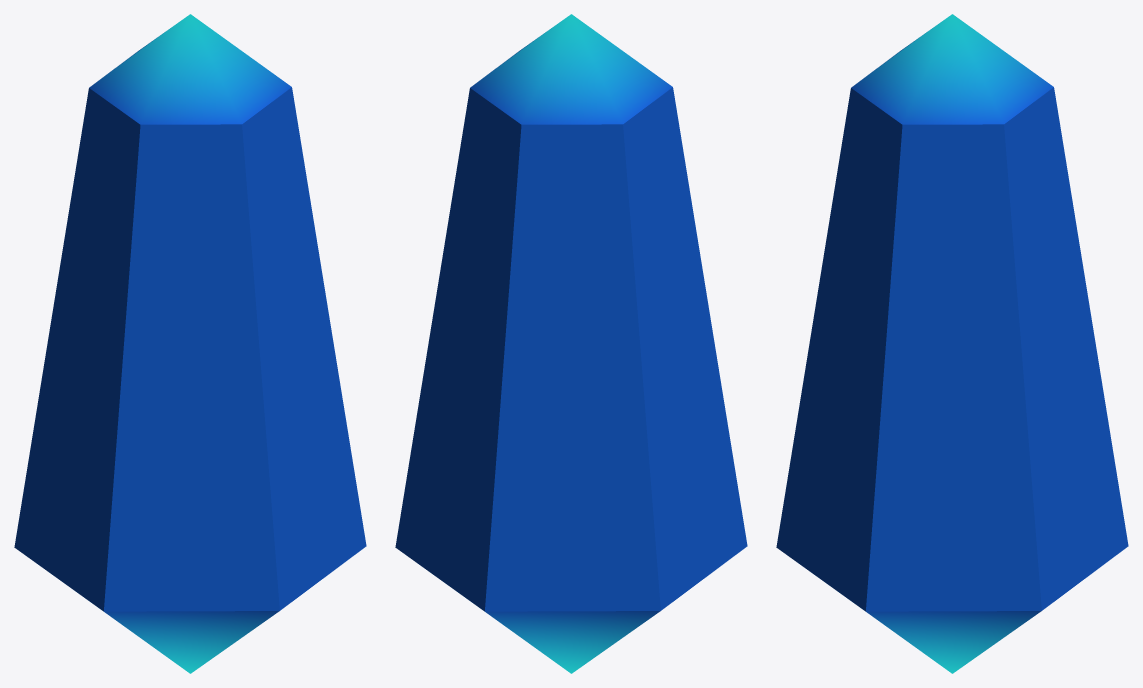
File: CollectCrystal.fbx
The picture shows the model from 3 angles, left to right: view 1: azimuth 30°, elevation 25°; view 2: azimuth 150°, elevation 25°; view 3: azimuth 270°, elevation 25°; orthographic projection.
Parts seen in each view (by area): view 1: pCylinder1; view 2: pCylinder1; view 3: pCylinder1.
Boxes of the visible parts, x1,y1,x2,y2 form: pCylinder1: (14, 14, 366, 673); pCylinder1: (395, 14, 747, 673); pCylinder1: (776, 14, 1128, 673).
Size of the model in its own units: 0.0108 by 0.0256 by 0.0124.
